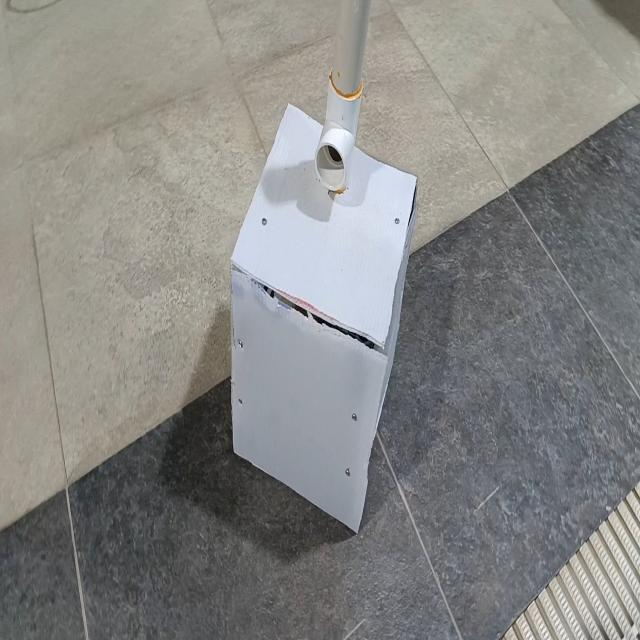Cube: (229, 101, 419, 535)
